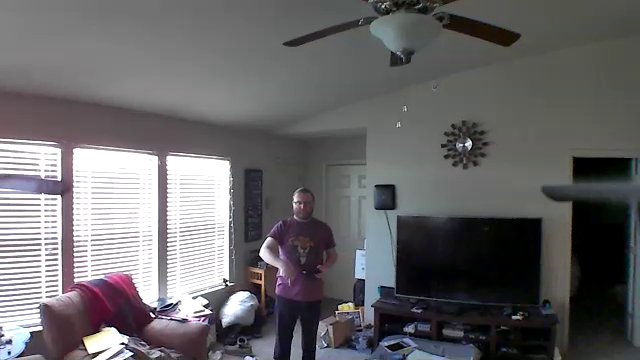down: (272, 255, 296, 289)
